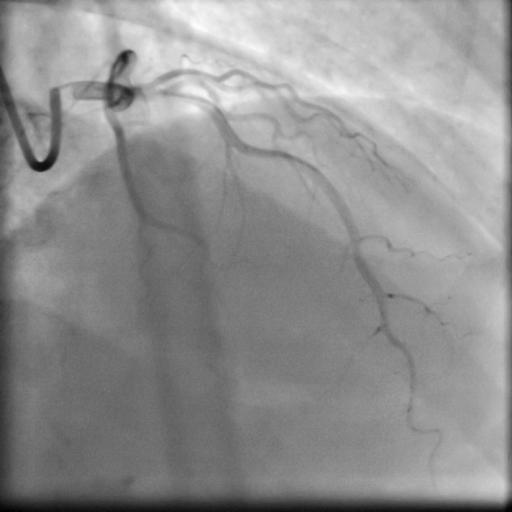Stenosis: (145, 81, 201, 104)
